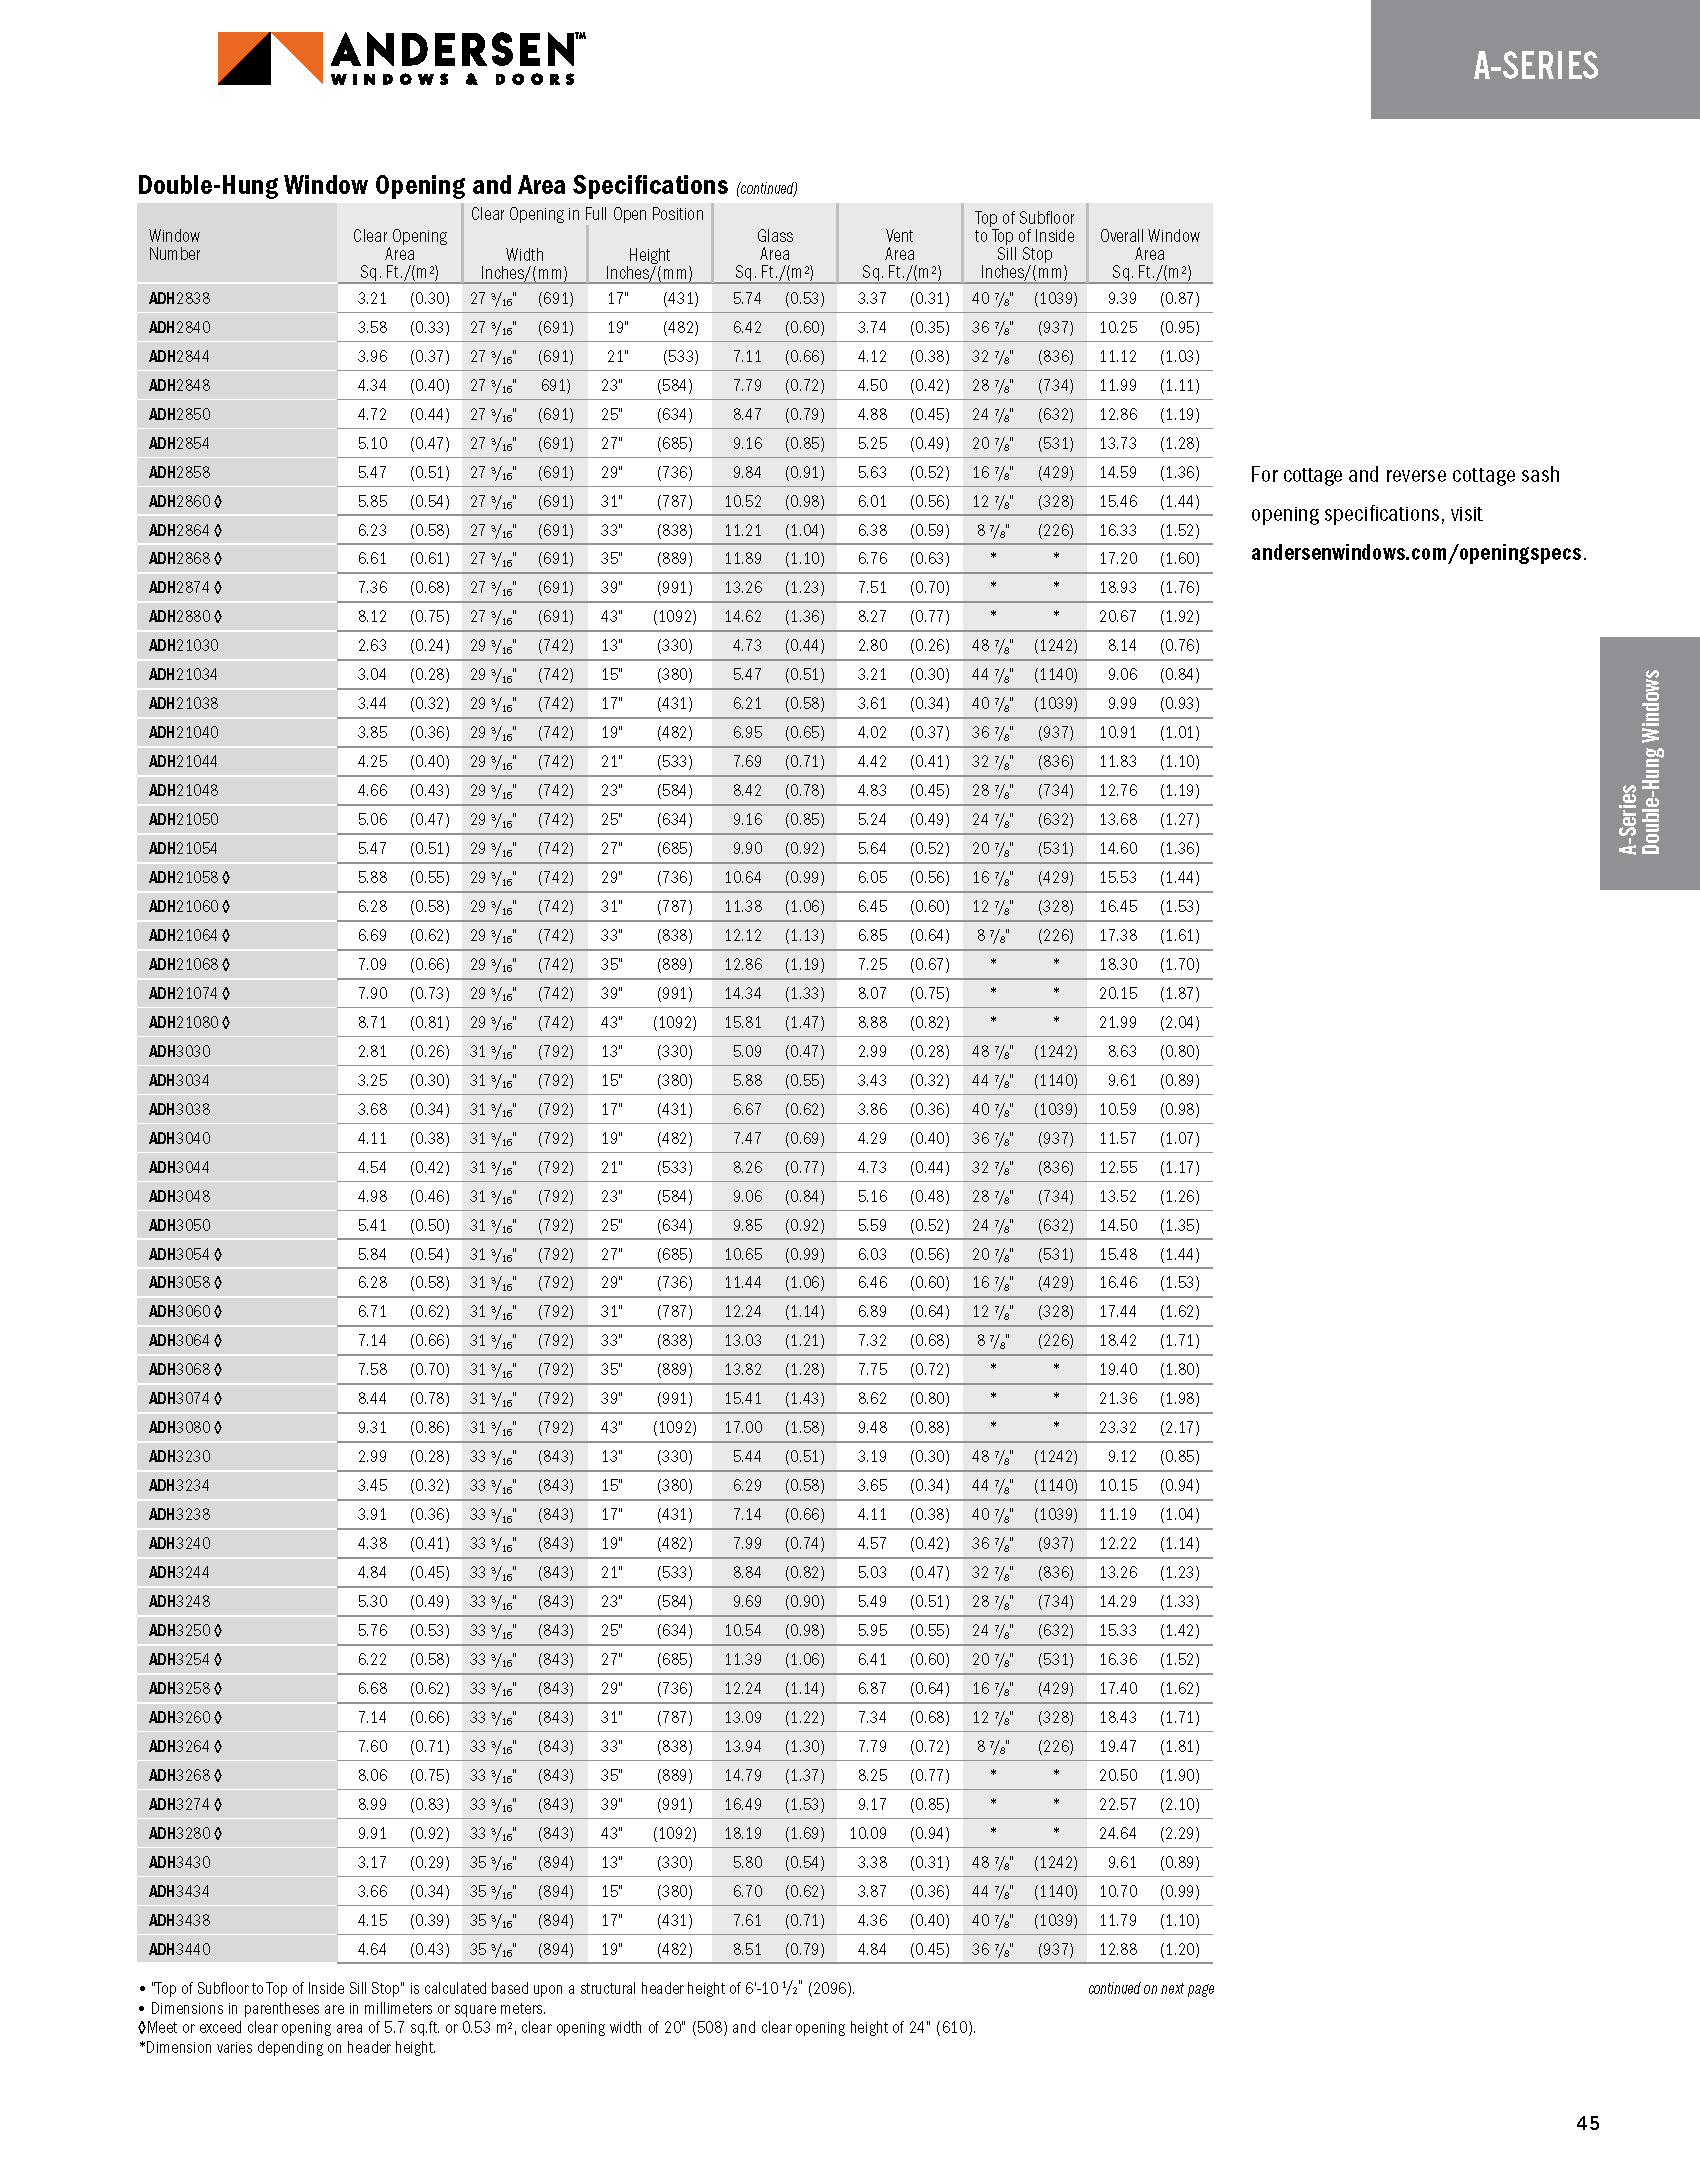tabledetected: (139, 203, 1215, 1968)
